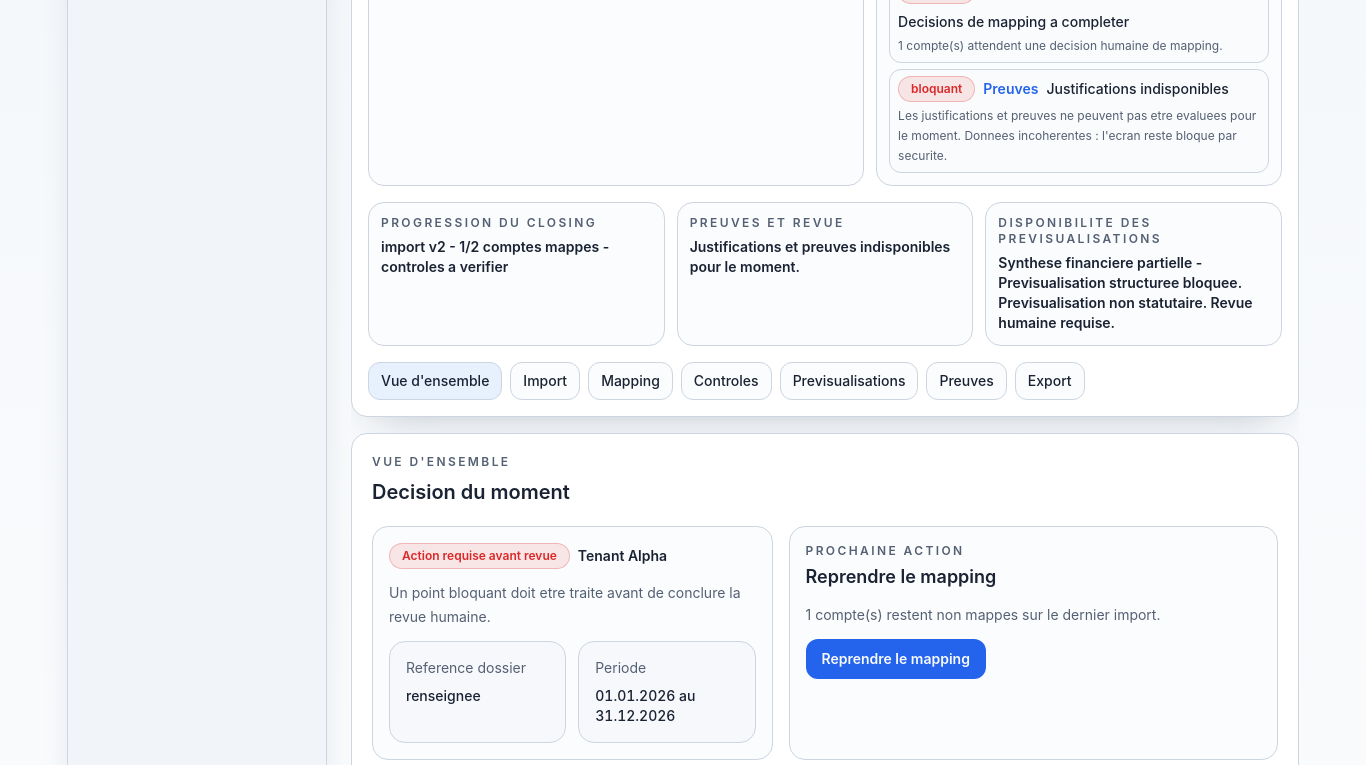
router manual mapping › exposes Mapping through the workbench navigation and only loads controls plus manual mapping after me then dossier
The width and height of the screenshot is (1366, 765).
(page scrolled)
Click the tab "Mapping" at [630, 381], box [588, 362, 673, 400]
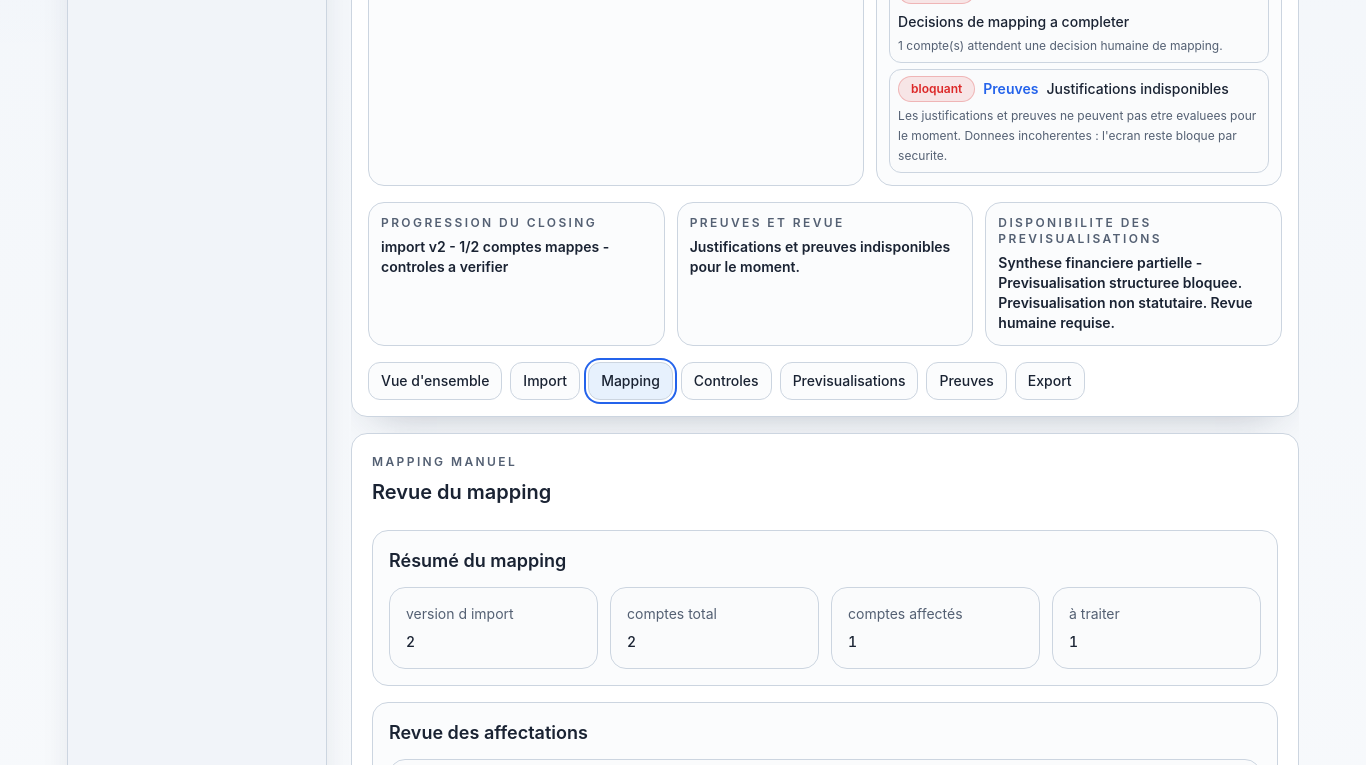
expect the heading "Revue du mapping" is shown: met, box [372, 480, 551, 504]
